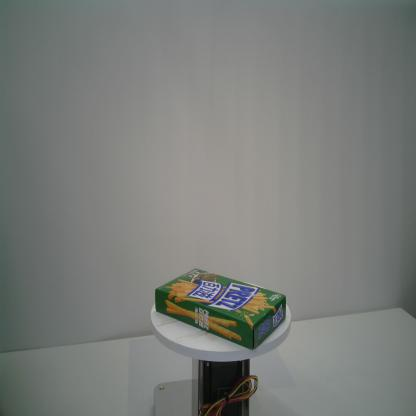Dessert: (153, 265, 288, 355)
